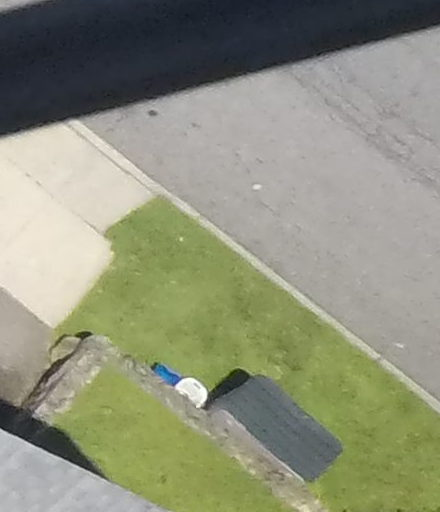container: (174, 366, 211, 412), (150, 350, 181, 387)
